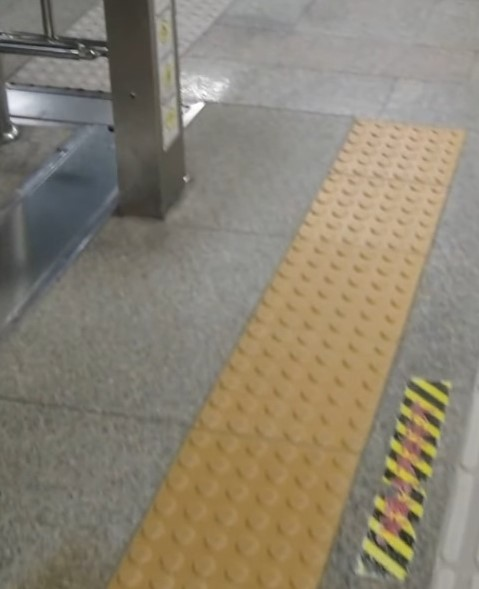warningBlock: (193, 407, 330, 547), (235, 328, 372, 441), (275, 257, 398, 332), (322, 186, 435, 247), (357, 116, 449, 190)
